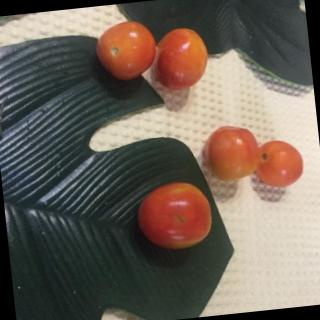Tomat: (85, 12, 225, 112), (198, 118, 308, 199), (129, 177, 217, 253)
